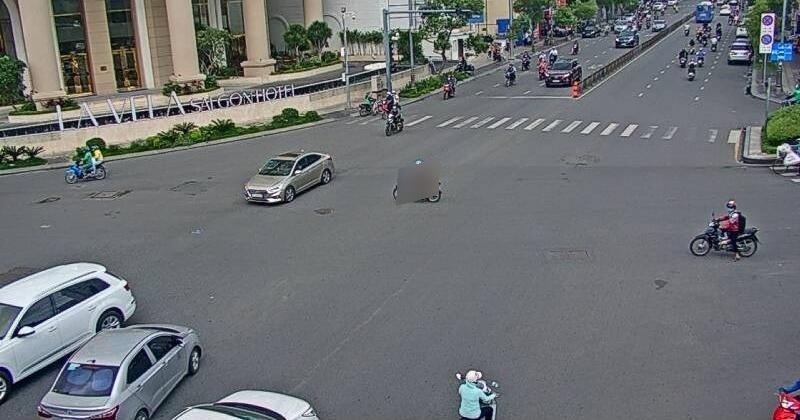xe hoi: (0, 259, 135, 402), (33, 321, 202, 420), (244, 150, 334, 207)
xe may: (689, 197, 757, 258), (391, 161, 440, 201), (67, 142, 106, 185), (384, 103, 403, 136)
